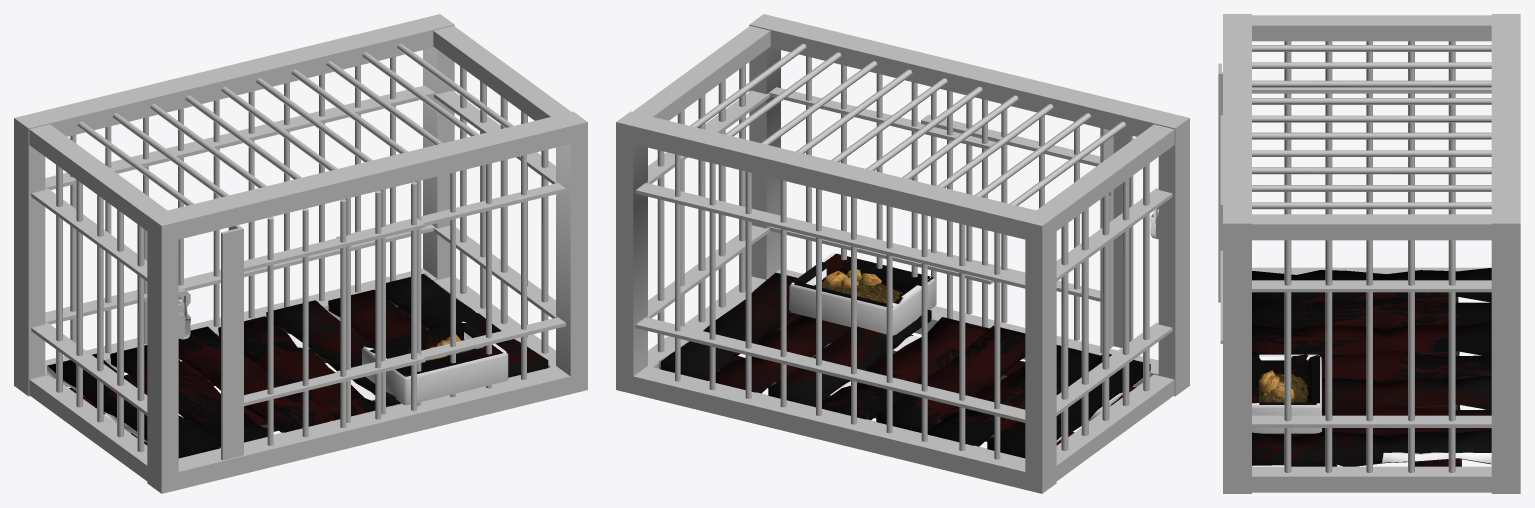
Rendered from cage_03.DAE.
3 renders of one model, left to right at view 1: azimuth 30°, elevation 25°; view 2: azimuth 150°, elevation 25°; view 3: azimuth 270°, elevation 25°, orthographic.
Parts seen in each view (by area): view 1: Object056, Object039, Object055, Box010; view 2: Object056, Object039, Object055, Box010, Plane008, Object043; view 3: Object056, Object039, Object055, Box010, Plane008, Object037, Object043.
Part boxes in pixels (x1,y1,x2,y2): Object056: (14,14,587,493); Object039: (47,273,548,458); Object055: (221,182,425,460); Box010: (362,347,508,405); Object056: (616,14,1189,493); Object039: (658,253,1150,458); Object055: (921,91,1133,352); Box010: (789,278,935,335); Plane008: (822,280,902,303); Object043: (823,269,882,288); Object056: (1223,14,1520,493); Object039: (1252,267,1491,466); Object055: (1218,63,1222,343); Box010: (1252,356,1321,433); Plane008: (1259,373,1308,402); Object037: (1252,296,1491,466); Object043: (1259,370,1295,402).
Size of the model in its own units: 2.5 by 1.51 by 1.52.
